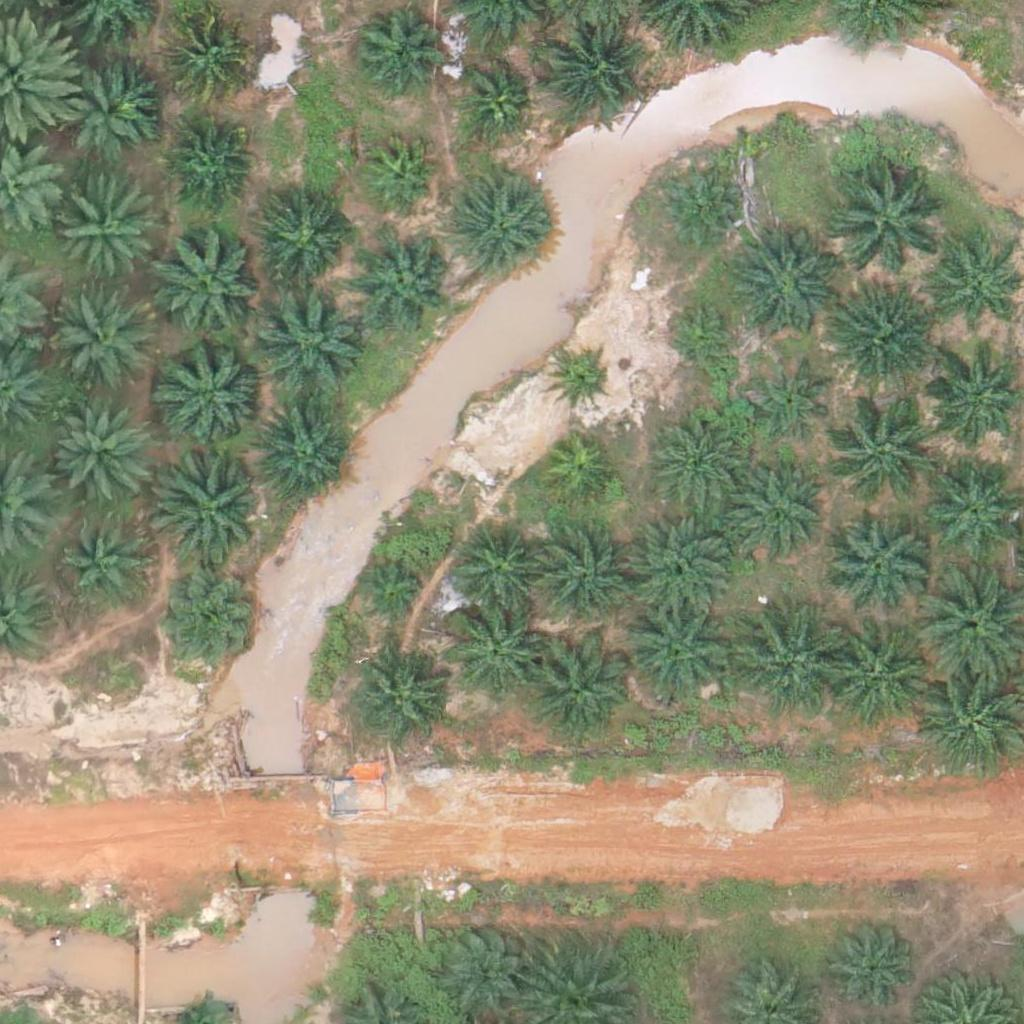Kelapa_Sawit: (831, 158, 944, 271), (725, 231, 838, 344), (623, 509, 736, 622), (620, 597, 733, 710), (522, 636, 635, 749), (251, 282, 364, 395), (152, 226, 265, 339), (156, 337, 269, 450), (830, 389, 942, 503), (728, 606, 840, 720), (818, 625, 930, 738), (821, 286, 933, 399), (155, 449, 267, 562), (822, 917, 922, 1018), (430, 917, 530, 1018), (923, 352, 1023, 453), (825, 514, 925, 615), (725, 465, 825, 566), (533, 531, 633, 632), (448, 522, 548, 623), (250, 403, 350, 504), (350, 648, 450, 749), (158, 576, 258, 677), (55, 183, 155, 284), (50, 295, 150, 396), (46, 403, 146, 504), (923, 456, 1023, 556), (540, 20, 640, 120), (450, 180, 550, 280), (648, 413, 748, 513), (443, 602, 543, 702), (356, 233, 456, 333), (54, 53, 154, 153), (748, 359, 836, 447), (653, 167, 741, 255), (350, 5, 438, 93), (261, 200, 349, 288), (161, 11, 249, 99), (935, 248, 1022, 336), (164, 119, 251, 207), (64, 521, 151, 609), (362, 136, 437, 212), (457, 62, 532, 137), (665, 298, 740, 373), (541, 436, 616, 511), (356, 560, 431, 635), (550, 349, 613, 412)
